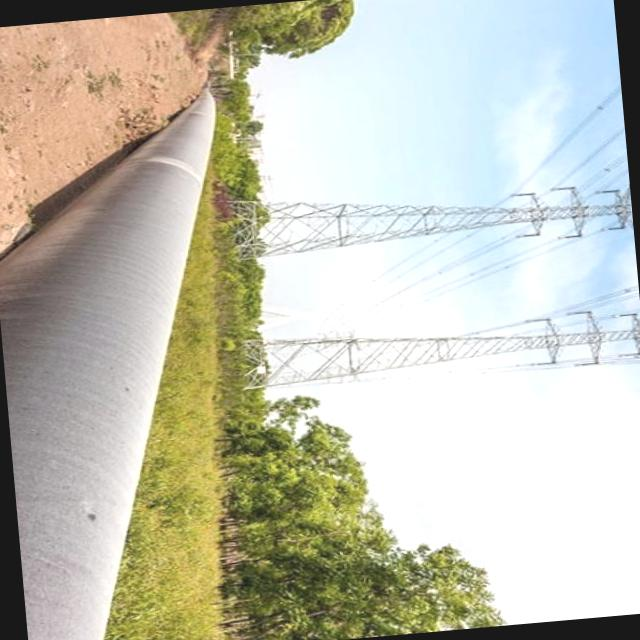gas: (0, 93, 214, 640)
